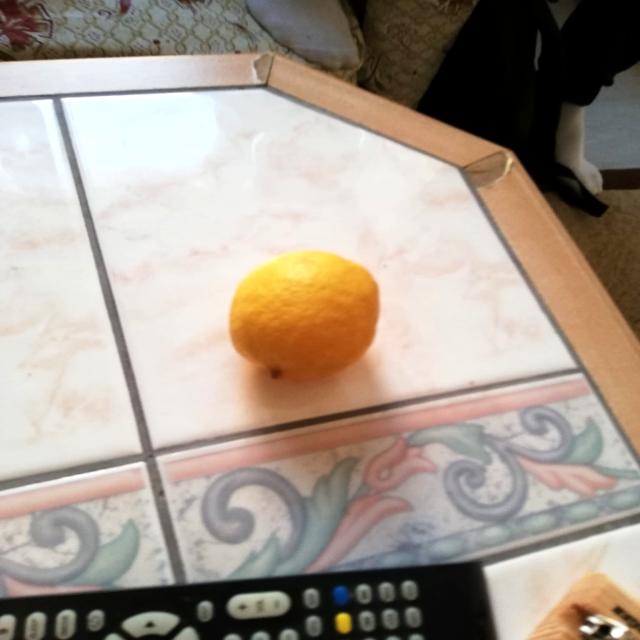lemon: (222, 244, 388, 388)
